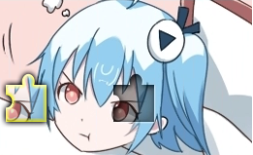gap: (114, 74, 153, 122)
